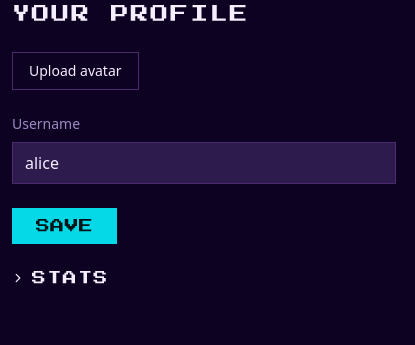
Test: ProfilePage › surfaces the duplicate-username error when PATCH returns 409
Check: the heading "Your profile" is shown, box [12,5,250,23]
Replace the text in the field labelled "Username" with "bob" at (204, 163), box [12,142,396,184]
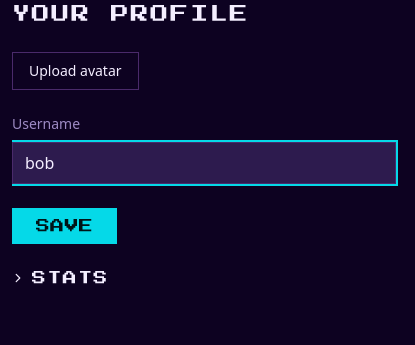
Click the button "Save".
click(65, 226)  # box [12,208,117,244]
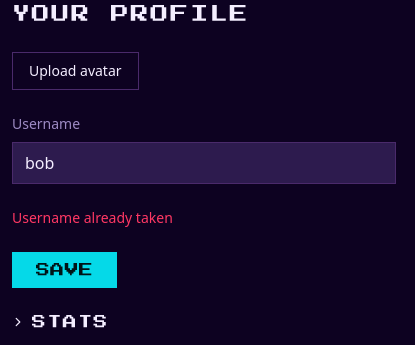
Check: the text "Username already taken" is shown, box [12,208,173,227]
